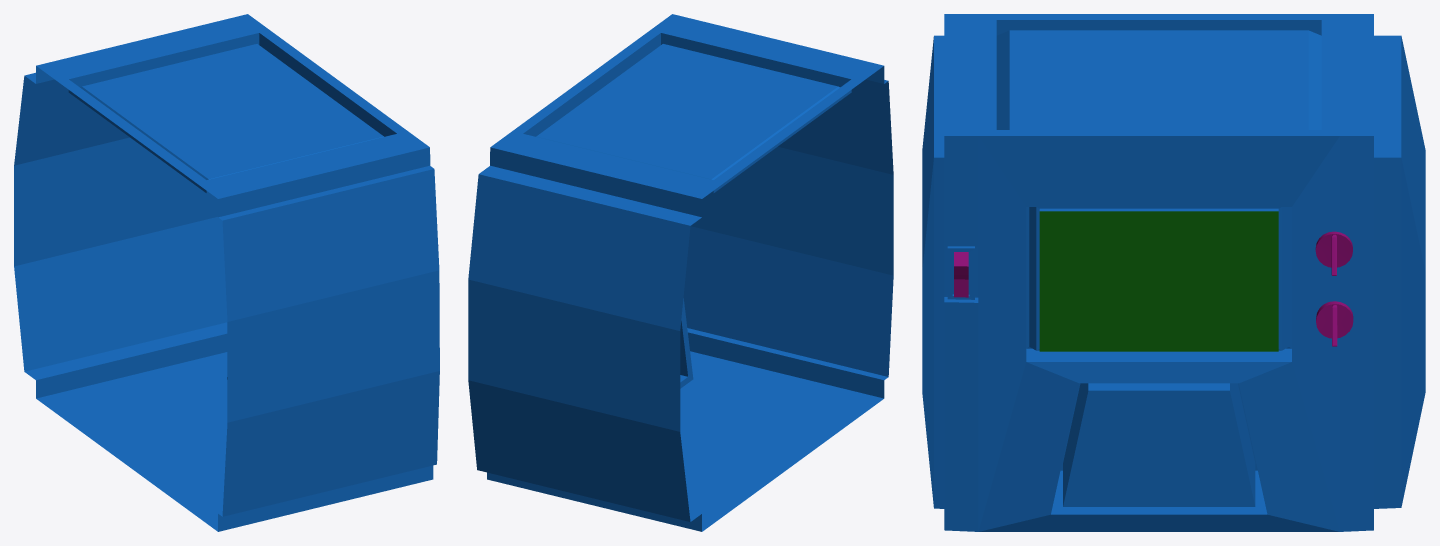
Rendered from SM_Compteur.fbx.
3 views of the same model, side by side, from view 1: azimuth 30°, elevation 25°; view 2: azimuth 150°, elevation 25°; view 3: azimuth 270°, elevation 25° (orthographic). The views are drawn at different scales.
Parts seen in each view (by area): view 1: Compteur:pCube57; view 2: Compteur:pCube57; view 3: Compteur:pCube57.
Boxes of the visible parts, box(x1,y1,x2,y2) form: Compteur:pCube57: box(14, 14, 439, 531); Compteur:pCube57: box(468, 14, 893, 531); Compteur:pCube57: box(922, 14, 1425, 531).
Size of the model in its own units: 8.37 by 11.28 by 13.11.
